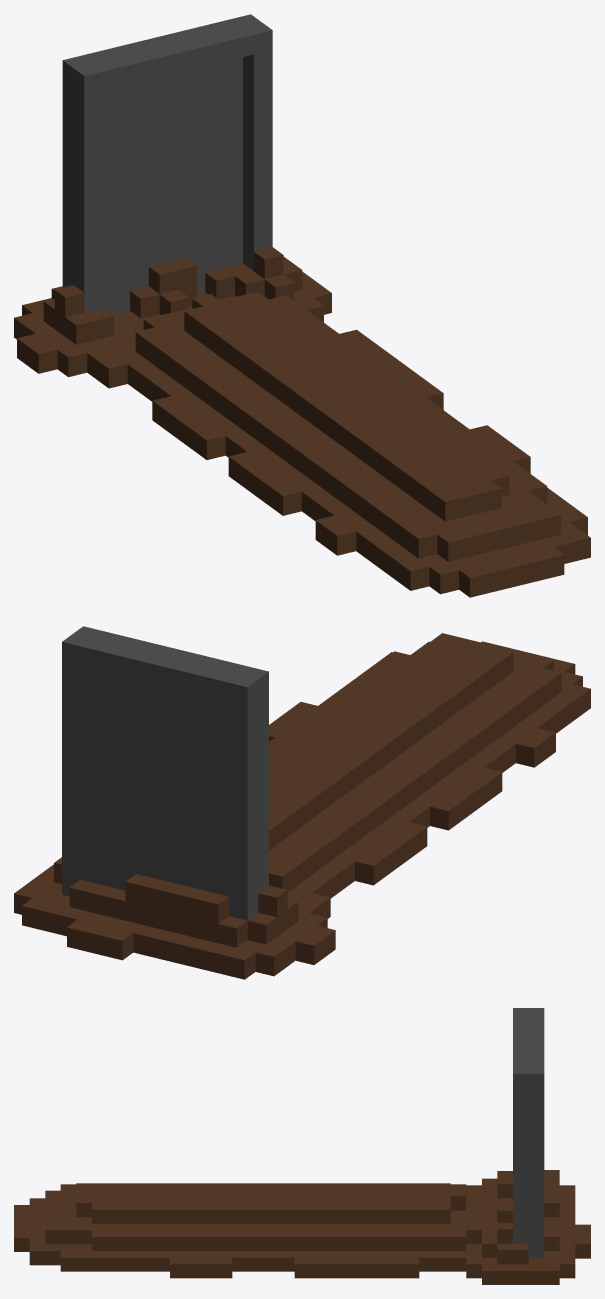
File: Lapide 06.obj
3 views of the same model, one above another, from view 1: azimuth 30°, elevation 25°; view 2: azimuth 150°, elevation 25°; view 3: azimuth 270°, elevation 25° (orthographic). The views are drawn at different scales.
Size of the model in its own units: 1.5 by 1.4 by 3.7.
Materials: 1 (1 with a texture image).
